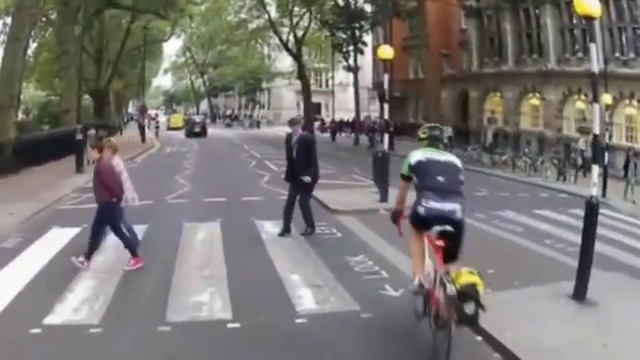cyclist_back: (389, 119, 488, 355)
